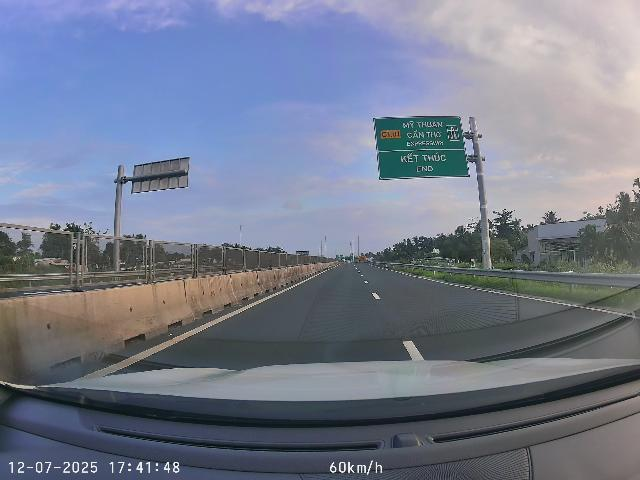438-ket-thuc-duong-cao-toc: (446, 125, 460, 141)
